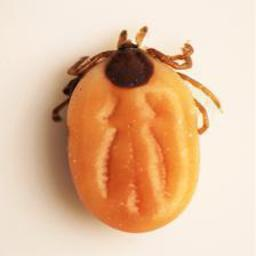Ixodes scapularis: (52, 25, 222, 233)
